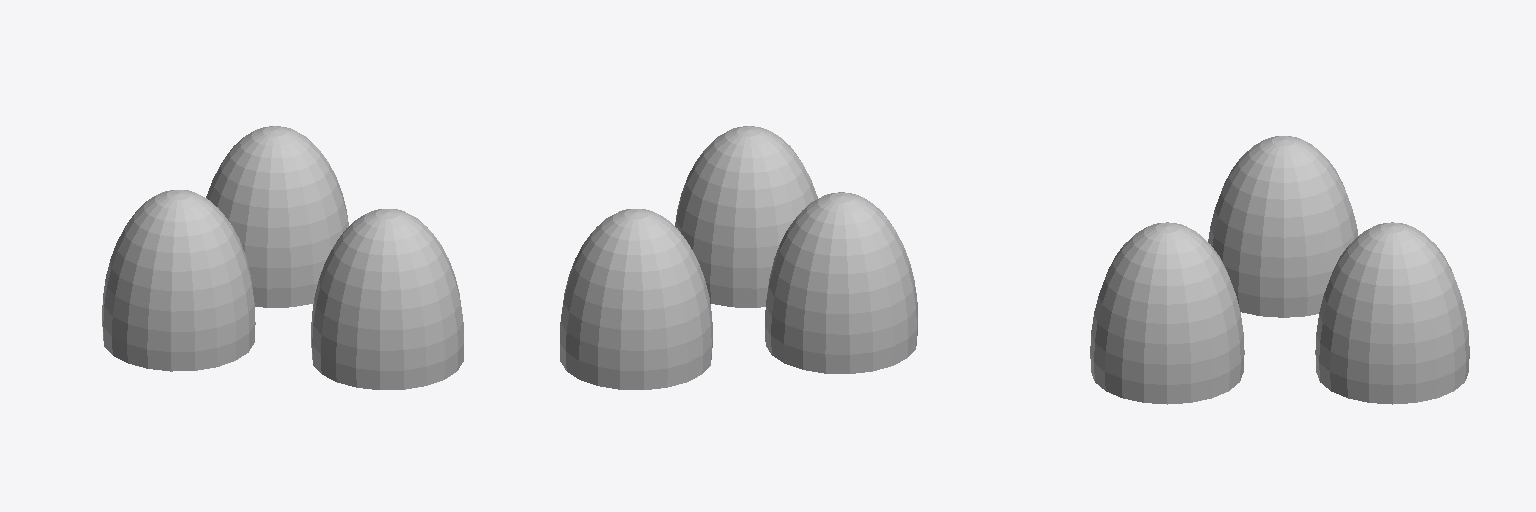
File: egg4.obj
3 renders of one model, left to right at view 1: azimuth 30°, elevation 25°; view 2: azimuth 150°, elevation 25°; view 3: azimuth 270°, elevation 25°, orthographic.
Parts seen in each view (by area): view 1: Egg4; view 2: Egg4; view 3: Egg4.
Part boxes in pixels (left/top/right/bottom): Egg4: left=102, top=126, right=463, bottom=389; Egg4: left=560, top=126, right=917, bottom=389; Egg4: left=1090, top=136, right=1469, bottom=404.
Bounding box in the file's own units: 8.59 × 4.59 × 9.93.